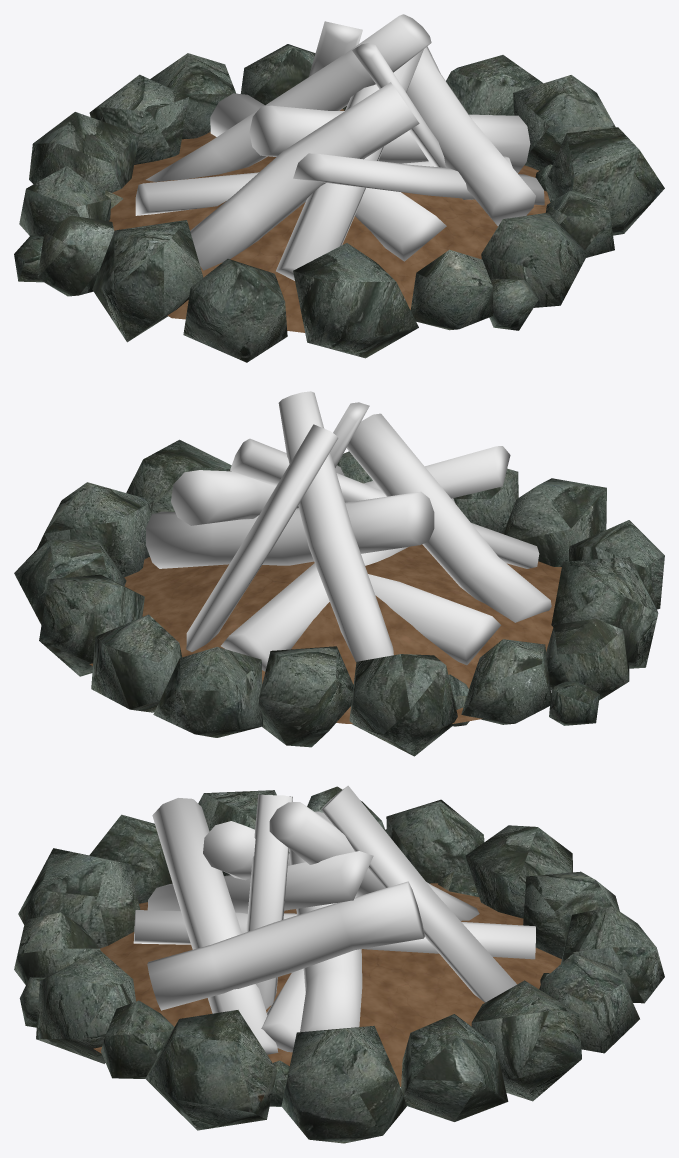
Rendered from fire_place.fbx.
3 renders of one model, top to bottom at view 1: azimuth 30°, elevation 25°; view 2: azimuth 150°, elevation 25°; view 3: azimuth 270°, elevation 25°, orthographic. The views are drawn at different scales.
Parts seen in each view (by area): view 1: Plane; view 2: Plane; view 3: Plane.
Boxes of the visible parts, box(x1,y1,x2,y2) form: Plane: box(14, 14, 664, 362); Plane: box(14, 391, 664, 756); Plane: box(14, 785, 664, 1143).
Size of the model in its own units: 626 by 238 by 579.
3 materials, 2 textured.
